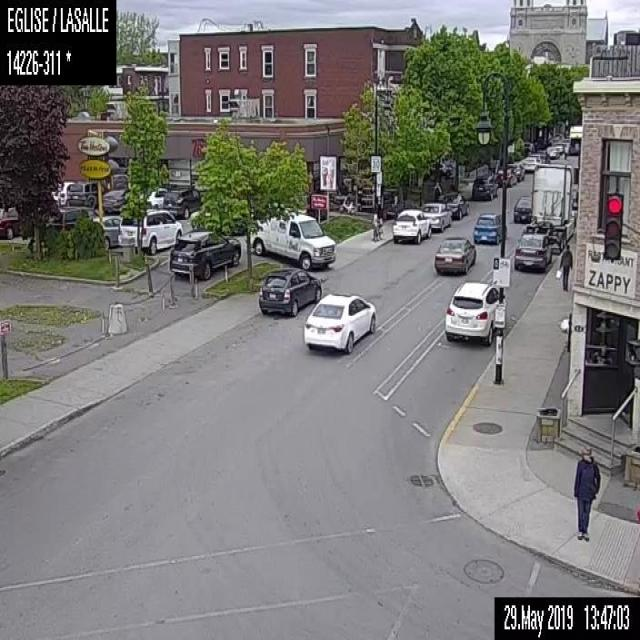pedestrian: (573, 445, 600, 540), (558, 244, 573, 289), (433, 180, 441, 199)
vehicle: (249, 208, 336, 268), (524, 160, 579, 250), (305, 293, 376, 352), (444, 278, 498, 346), (169, 228, 240, 279), (258, 268, 322, 316), (119, 206, 179, 252), (512, 232, 552, 272), (433, 236, 475, 274), (391, 206, 430, 244), (162, 188, 202, 219), (471, 211, 507, 243), (420, 201, 452, 232), (441, 191, 468, 221), (96, 216, 118, 250), (48, 179, 75, 205), (67, 180, 96, 204), (470, 177, 496, 200), (0, 206, 17, 240), (512, 195, 531, 222), (101, 188, 123, 209), (145, 186, 167, 207), (496, 166, 516, 185), (508, 160, 524, 180), (523, 154, 534, 172), (535, 149, 549, 163), (546, 144, 559, 158)
